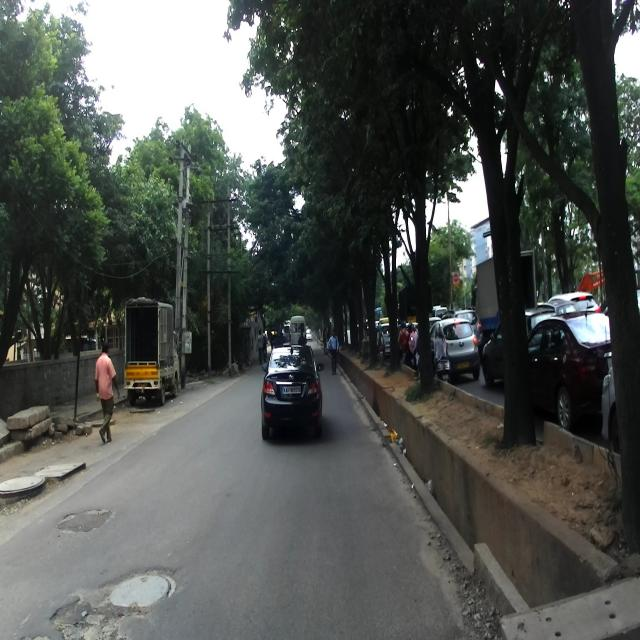Car_Hyundai: (260, 341, 324, 441)
